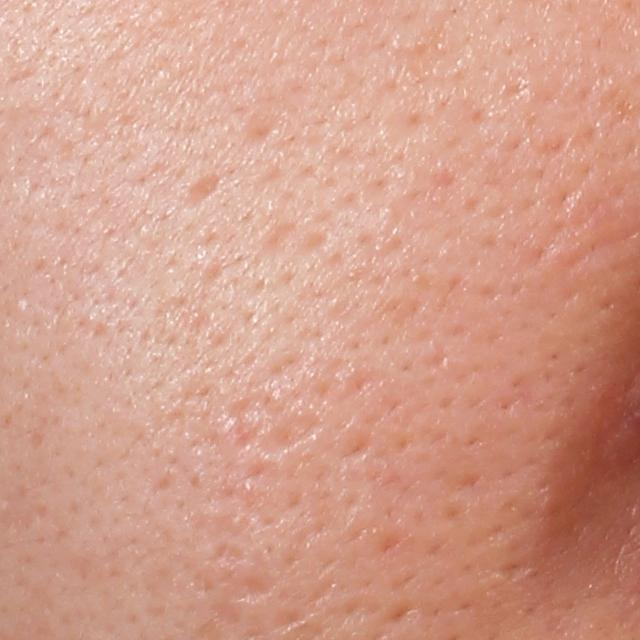atrophic_scar: (214, 568, 275, 626), (258, 407, 324, 459), (221, 394, 260, 449), (179, 170, 223, 213), (260, 213, 298, 253), (208, 538, 249, 566), (240, 117, 276, 148)
comedo: (10, 294, 31, 315)
